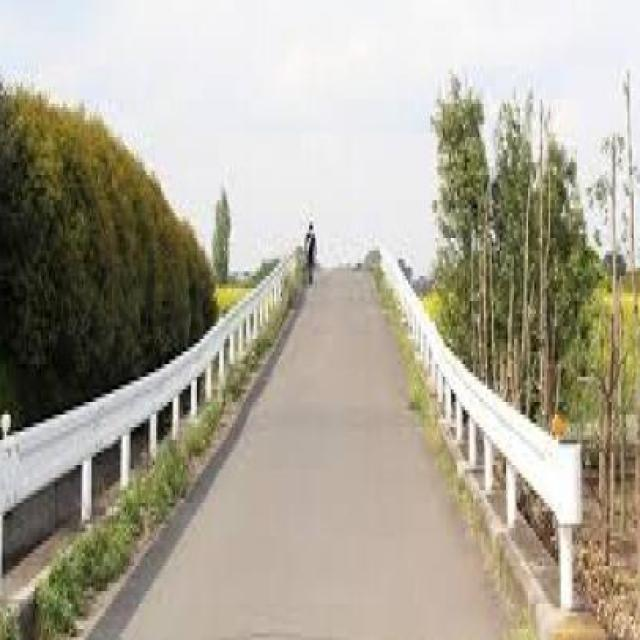Guard rail: (0, 236, 307, 619), (376, 232, 587, 624)
